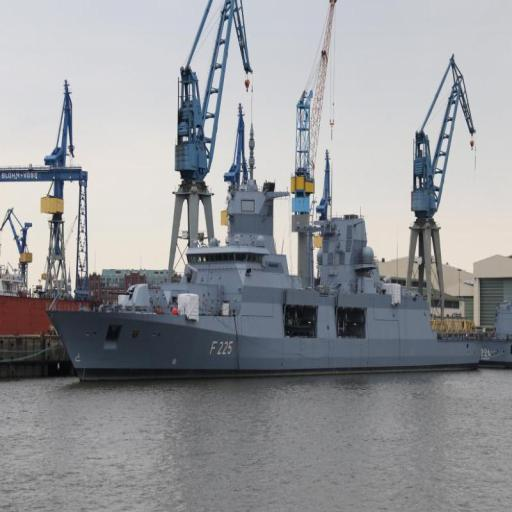Fragata: (46, 111, 485, 388)
